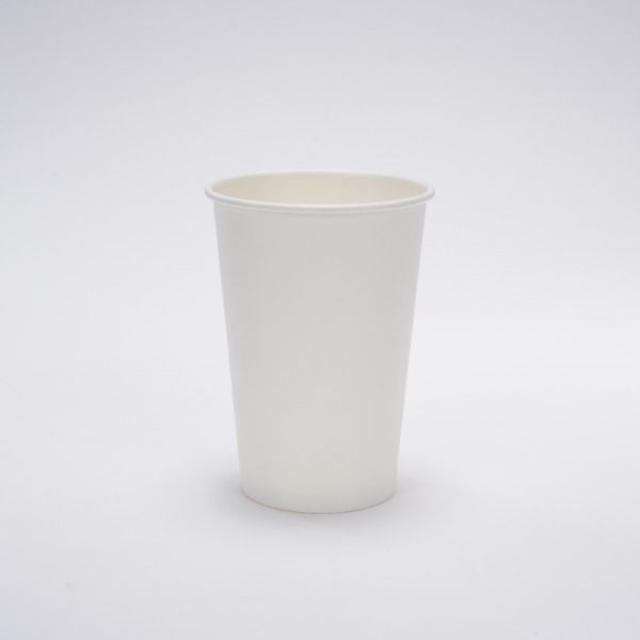paper cup: (204, 170, 436, 512)
